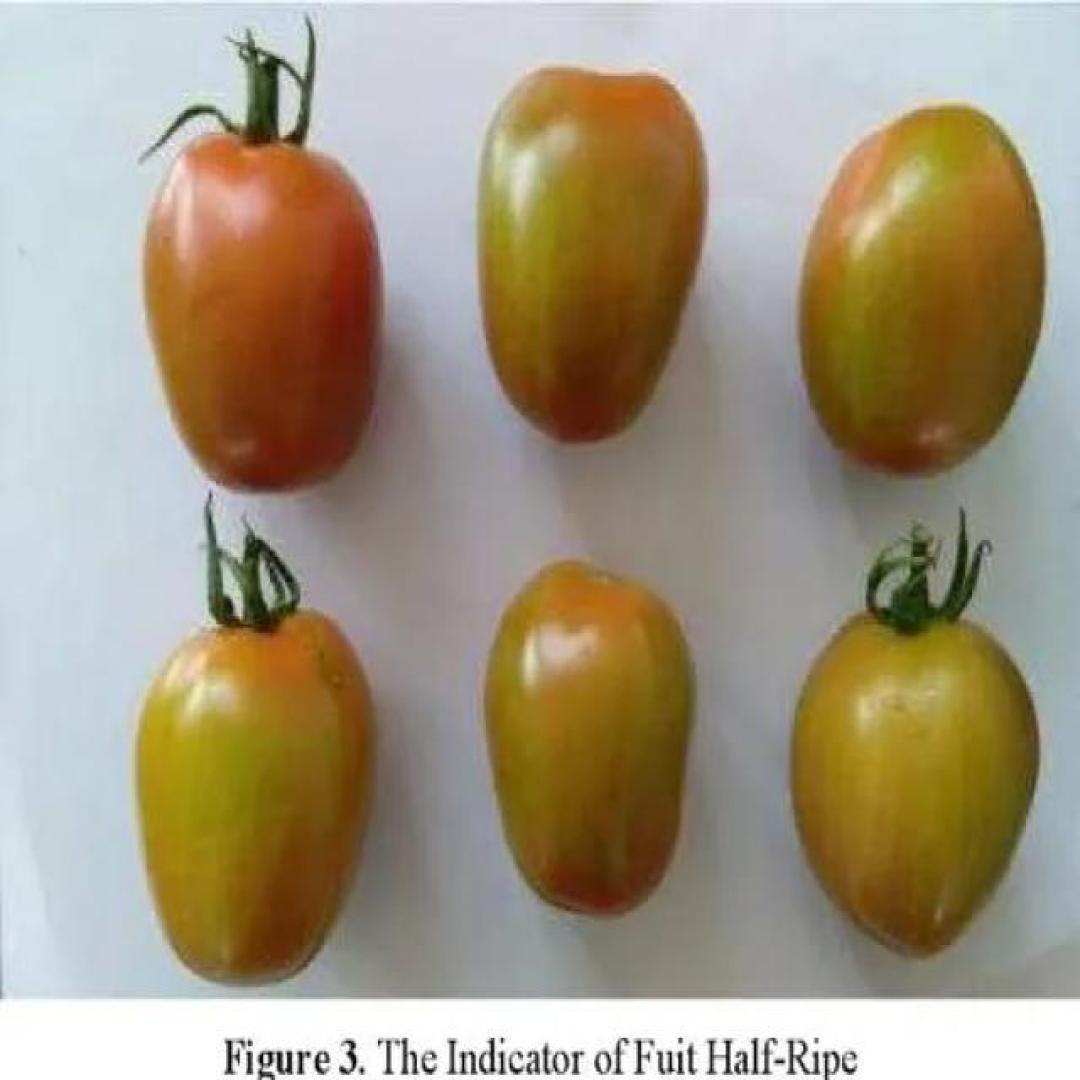setengah_matang: (793, 101, 1046, 478), (132, 603, 374, 990), (782, 602, 1040, 962), (138, 126, 388, 494), (469, 59, 709, 442), (478, 552, 695, 923)
